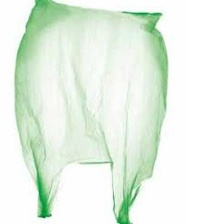plastic_bag: (12, 0, 175, 224)
